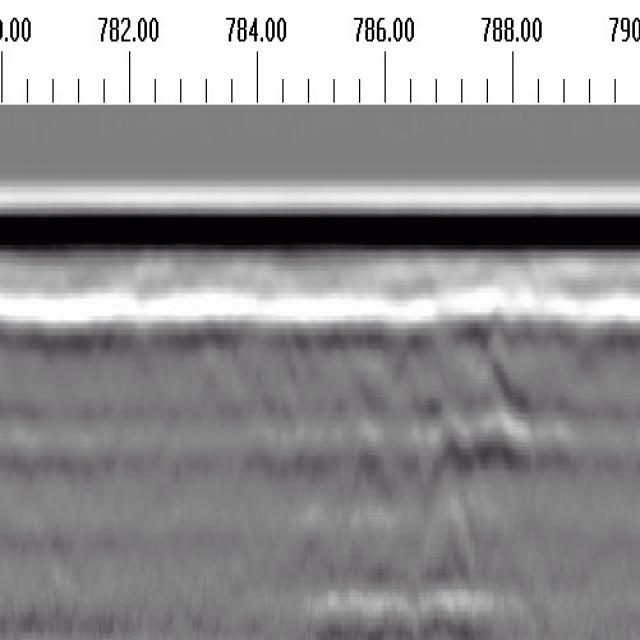loose: (346, 384, 544, 485)
